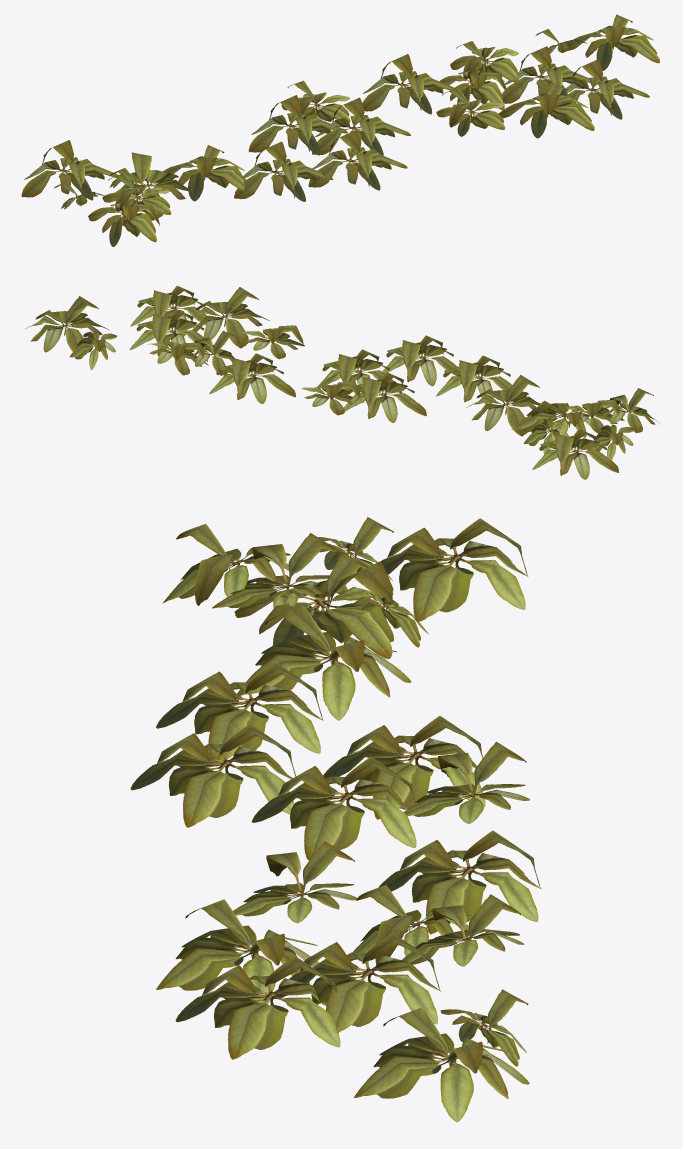
Rendered from Emb_BalconyPlanter_Plant_02.FBX.
The picture shows the model from 3 angles, top to bottom: view 1: azimuth 30°, elevation 25°; view 2: azimuth 150°, elevation 25°; view 3: azimuth 270°, elevation 25°; orthographic projection. The views are drawn at different scales.
Visible parts, largest first — view 1: Emb_BalconyPlanter_Plant_02; view 2: Emb_BalconyPlanter_Plant_02; view 3: Emb_BalconyPlanter_Plant_02.
Part boxes in pixels (x1=…): Emb_BalconyPlanter_Plant_02: x1=21, y1=14, x2=659, y2=246; Emb_BalconyPlanter_Plant_02: x1=25, y1=285, x2=658, y2=479; Emb_BalconyPlanter_Plant_02: x1=130, y1=517, x2=540, y2=1122.
Size of the model in its own units: 4.55 by 0.3237 by 1.47.
